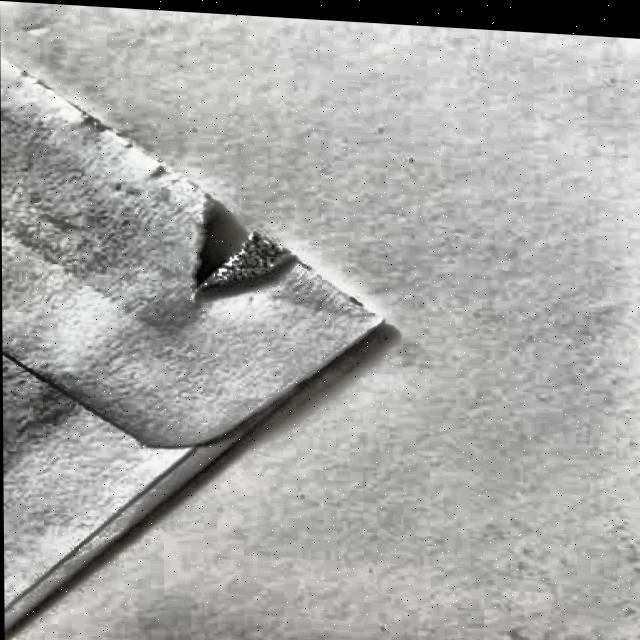paper: (0, 0, 387, 640)
